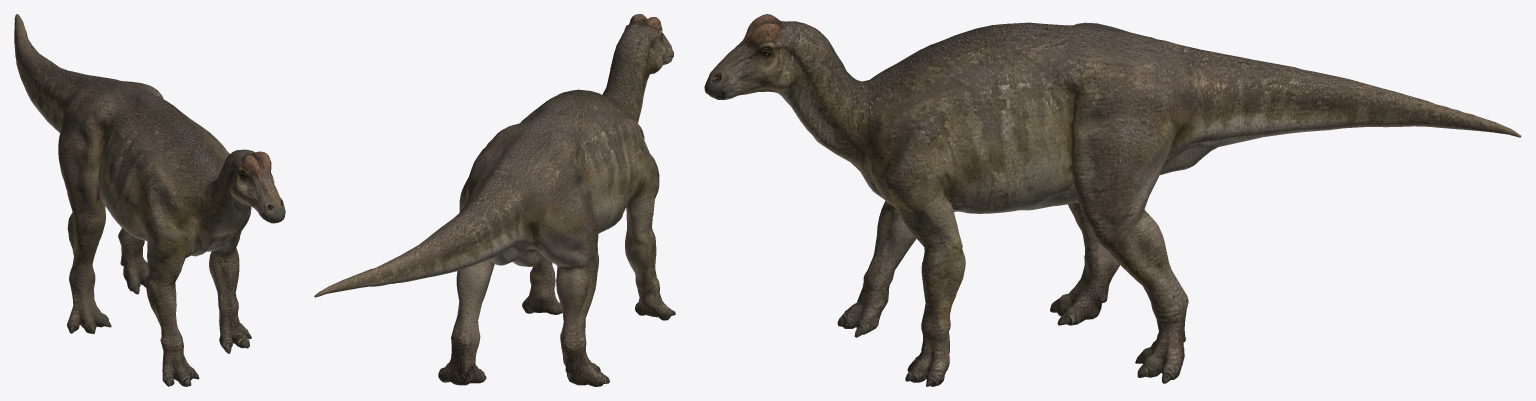
File: maiasaura.glb
3 views of the same model, side by side, from view 1: azimuth 30°, elevation 25°; view 2: azimuth 150°, elevation 25°; view 3: azimuth 270°, elevation 25° (orthographic). The views are drawn at different scales.
Parts seen in each view (by area): view 1: dino; view 2: dino; view 3: dino.
Boxes of the visible parts, x1,y1,x2,y2 form: dino: [14, 14, 285, 386]; dino: [314, 14, 675, 386]; dino: [704, 14, 1521, 386].
Size of the model in its own units: 2.29 by 4.09 by 9.
1 material, 1 textured.
